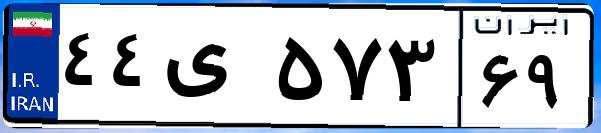3: (385, 28, 445, 110)
4: (57, 26, 110, 100), (110, 28, 158, 98)
5: (270, 28, 330, 110)
6: (475, 38, 525, 113)
7: (330, 28, 385, 110)
9: (525, 38, 570, 115)
ی: (158, 20, 270, 120)
